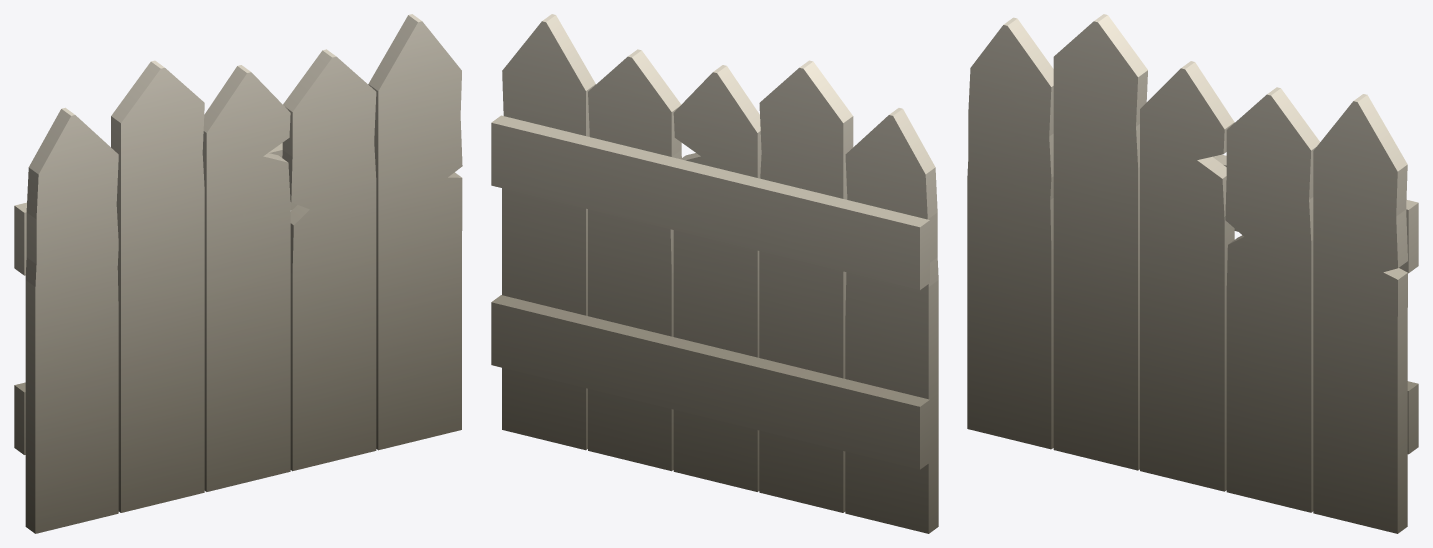
File: White5.glb
3 views of the same model, side by side, from view 1: azimuth 30°, elevation 25°; view 2: azimuth 150°, elevation 25°; view 3: azimuth 330°, elevation 25° (orthographic).
Parts seen in each view (by area): view 1: White5.001; view 2: White5.001; view 3: White5.001.
Boxes of the visible parts, x1,y1,x2,y2 form: White5.001: (14, 14, 462, 533); White5.001: (491, 14, 938, 533); White5.001: (967, 14, 1418, 533).
Bounding box in the file's own units: 10 × 9.68 × 0.8002.
Materials: 1 (1 with a texture image).
